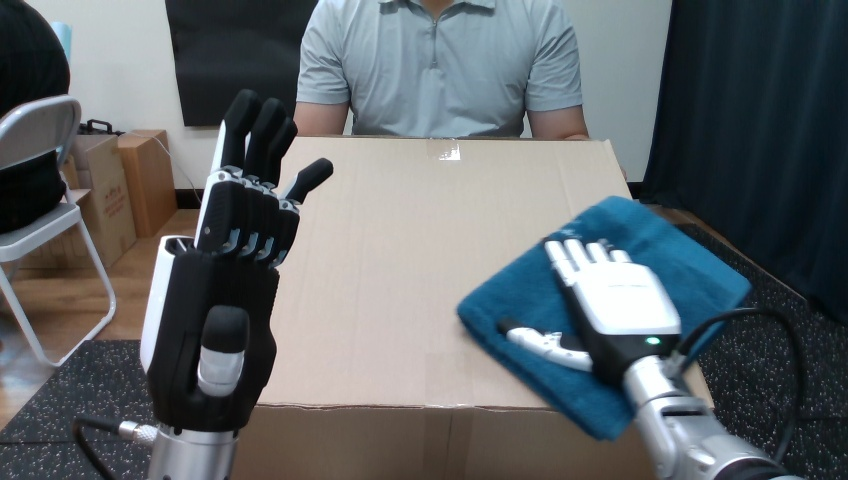left robot hand: (73, 89, 332, 479)
